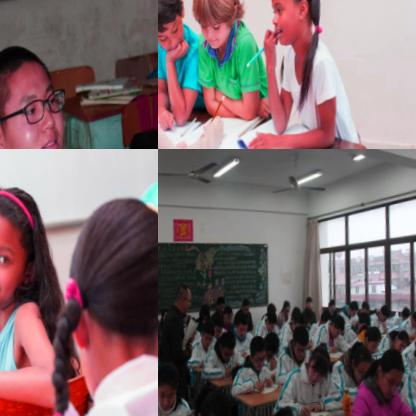head: (57, 189, 158, 382), (0, 37, 75, 149), (0, 187, 52, 312), (258, 0, 330, 59), (184, 0, 254, 53), (158, 0, 196, 61), (373, 344, 411, 402), (191, 383, 238, 416), (347, 338, 376, 384), (158, 361, 183, 410), (308, 345, 335, 387), (249, 332, 272, 373), (291, 327, 313, 364), (174, 281, 194, 316), (262, 328, 282, 363), (218, 330, 238, 362), (200, 316, 217, 348), (366, 327, 384, 355), (235, 312, 252, 341), (330, 315, 347, 342), (394, 330, 411, 354), (356, 311, 371, 334), (186, 319, 200, 342), (213, 317, 227, 339), (292, 312, 307, 332), (378, 302, 392, 323), (319, 310, 333, 329), (348, 299, 361, 319), (217, 293, 229, 314), (266, 313, 279, 332), (360, 297, 373, 316), (400, 305, 413, 324), (201, 300, 213, 320), (223, 305, 235, 324), (328, 300, 340, 318), (242, 299, 254, 316), (267, 301, 279, 317), (409, 307, 416, 331), (283, 300, 293, 316), (306, 294, 316, 310), (293, 303, 303, 318), (162, 309, 169, 321)
